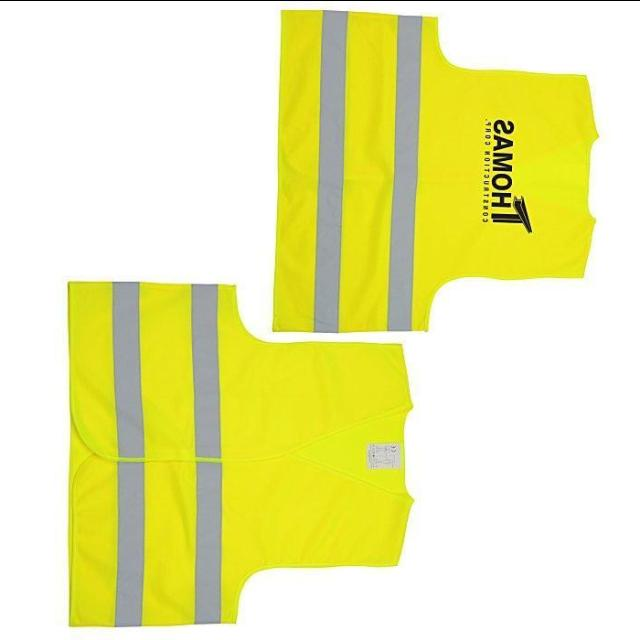jacket: (52, 277, 406, 631), (262, 0, 612, 333)
